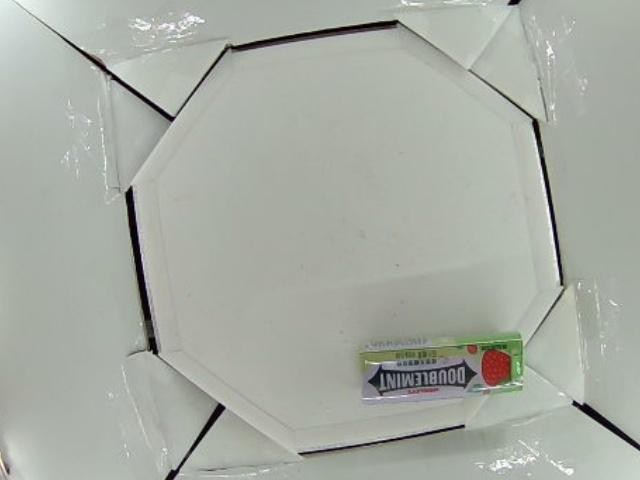Bottle: (360, 330, 528, 400)
